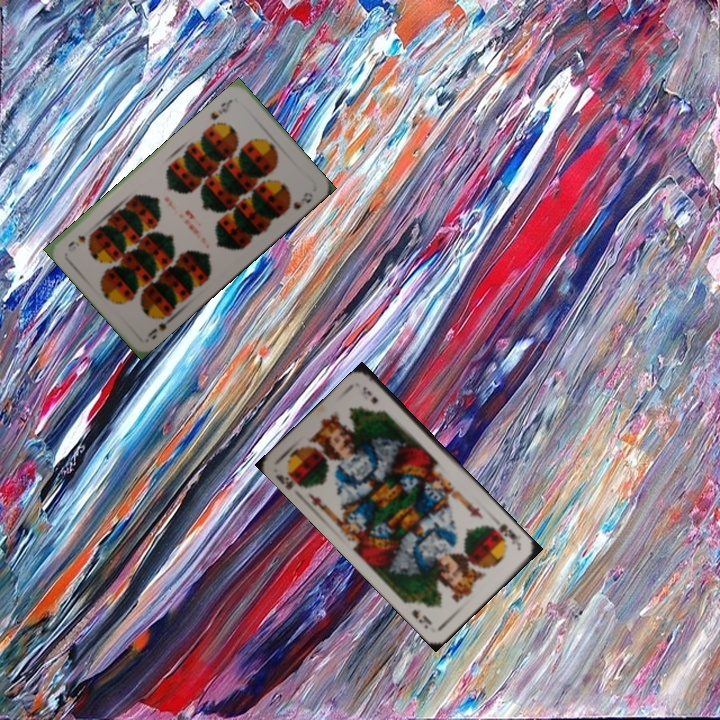S9: (143, 310, 177, 342), (206, 95, 235, 123)
SK: (487, 520, 522, 548), (272, 467, 309, 492)
